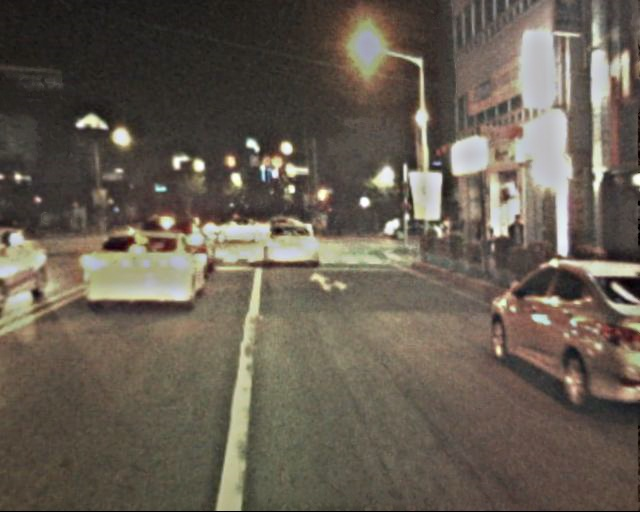person: (38, 205, 124, 237), (506, 214, 531, 275), (478, 220, 496, 264)
